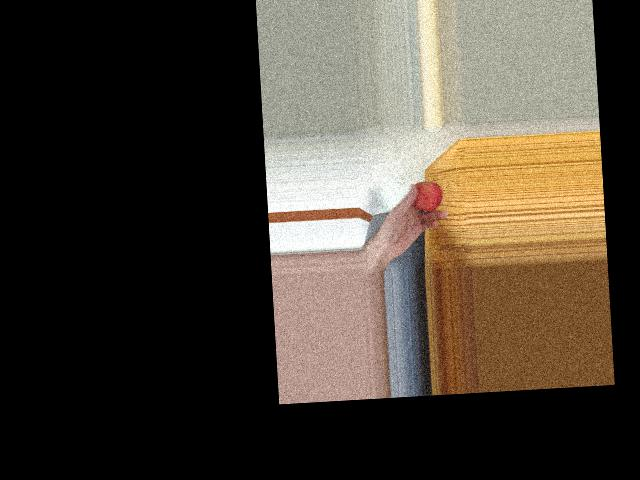apple: (411, 177, 444, 214)
